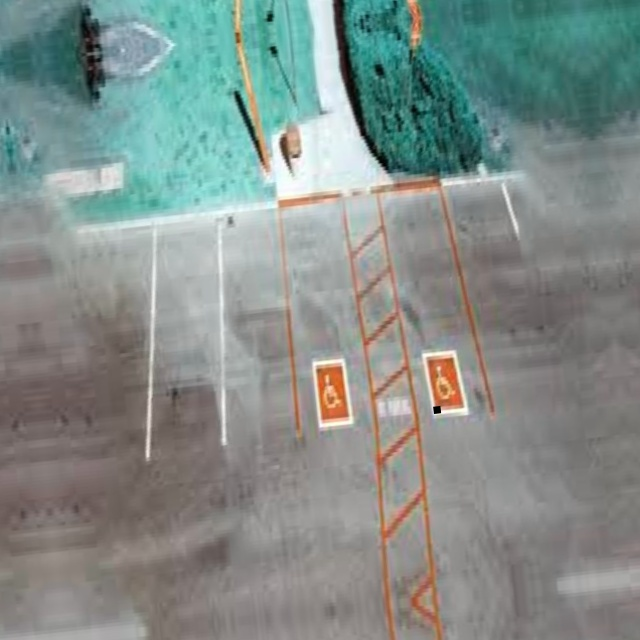ISA: (430, 362, 457, 402), (321, 371, 344, 416)
